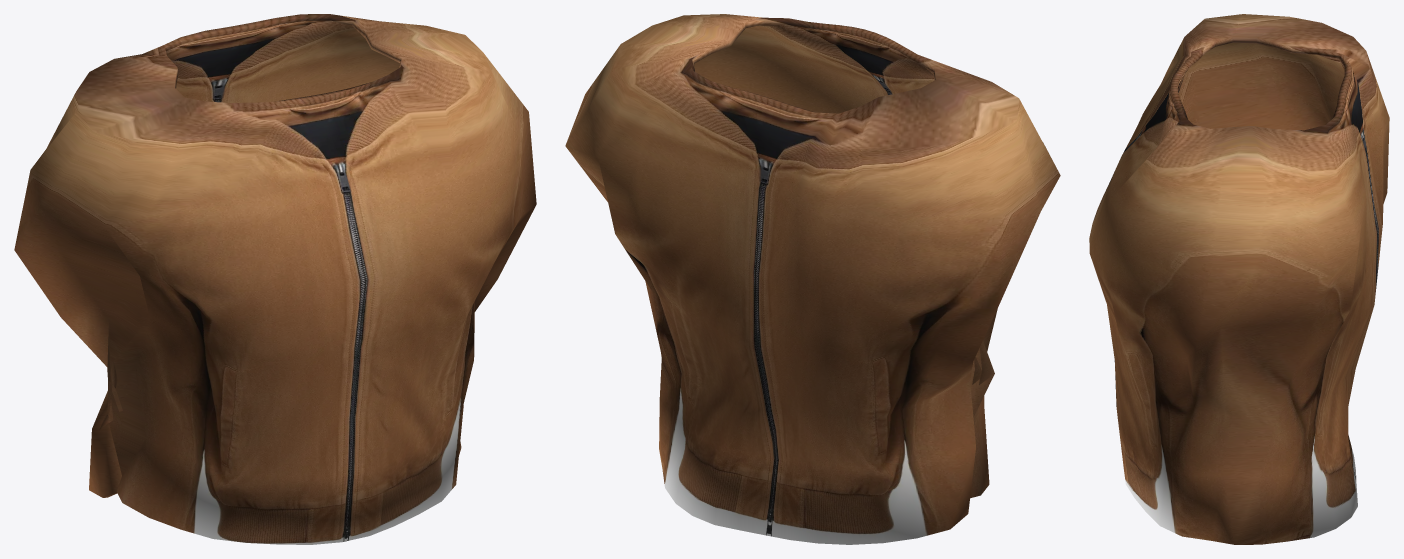
3 views of the same model, side by side, from view 1: azimuth 30°, elevation 25°; view 2: azimuth 150°, elevation 25°; view 3: azimuth 270°, elevation 25° (orthographic). The views are drawn at different scales.
Visible parts, largest first — view 1: garment; view 2: garment; view 3: garment.
Boxes of the visible parts, x1=… form: garment: x1=14, y1=14, x2=536, y2=544; garment: x1=565, y1=14, x2=1060, y2=544; garment: x1=1089, y1=14, x2=1389, y2=544.
Size of the model in its own units: 0.5408 by 0.486 by 0.329.
Materials: 1 (1 with a texture image).
